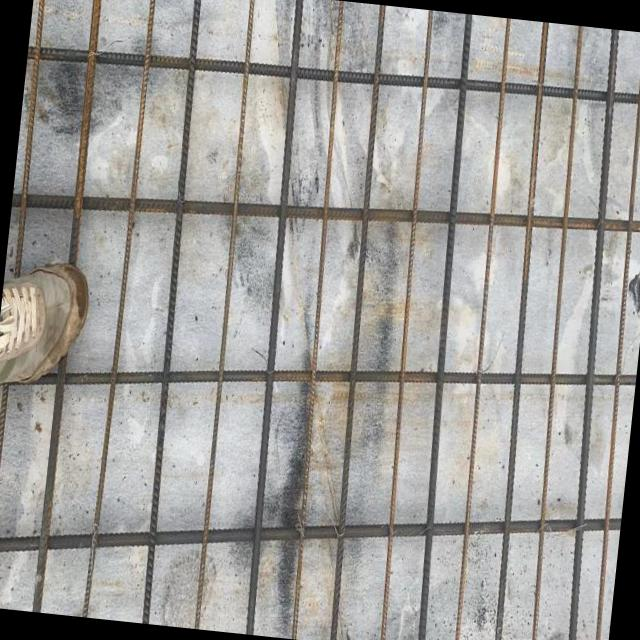ribbed bar: (0, 449, 621, 621), (4, 305, 636, 454), (11, 151, 640, 273), (26, 25, 640, 127), (272, 1, 364, 638), (228, 0, 320, 633), (545, 29, 640, 640), (398, 14, 490, 640), (361, 10, 451, 640), (313, 5, 402, 640), (473, 22, 564, 640), (510, 26, 601, 640), (126, 0, 215, 623), (437, 18, 524, 640), (183, 0, 266, 628), (28, 0, 107, 611), (80, 0, 156, 616), (576, 33, 640, 640), (0, 0, 51, 605), (458, 622, 608, 640)
